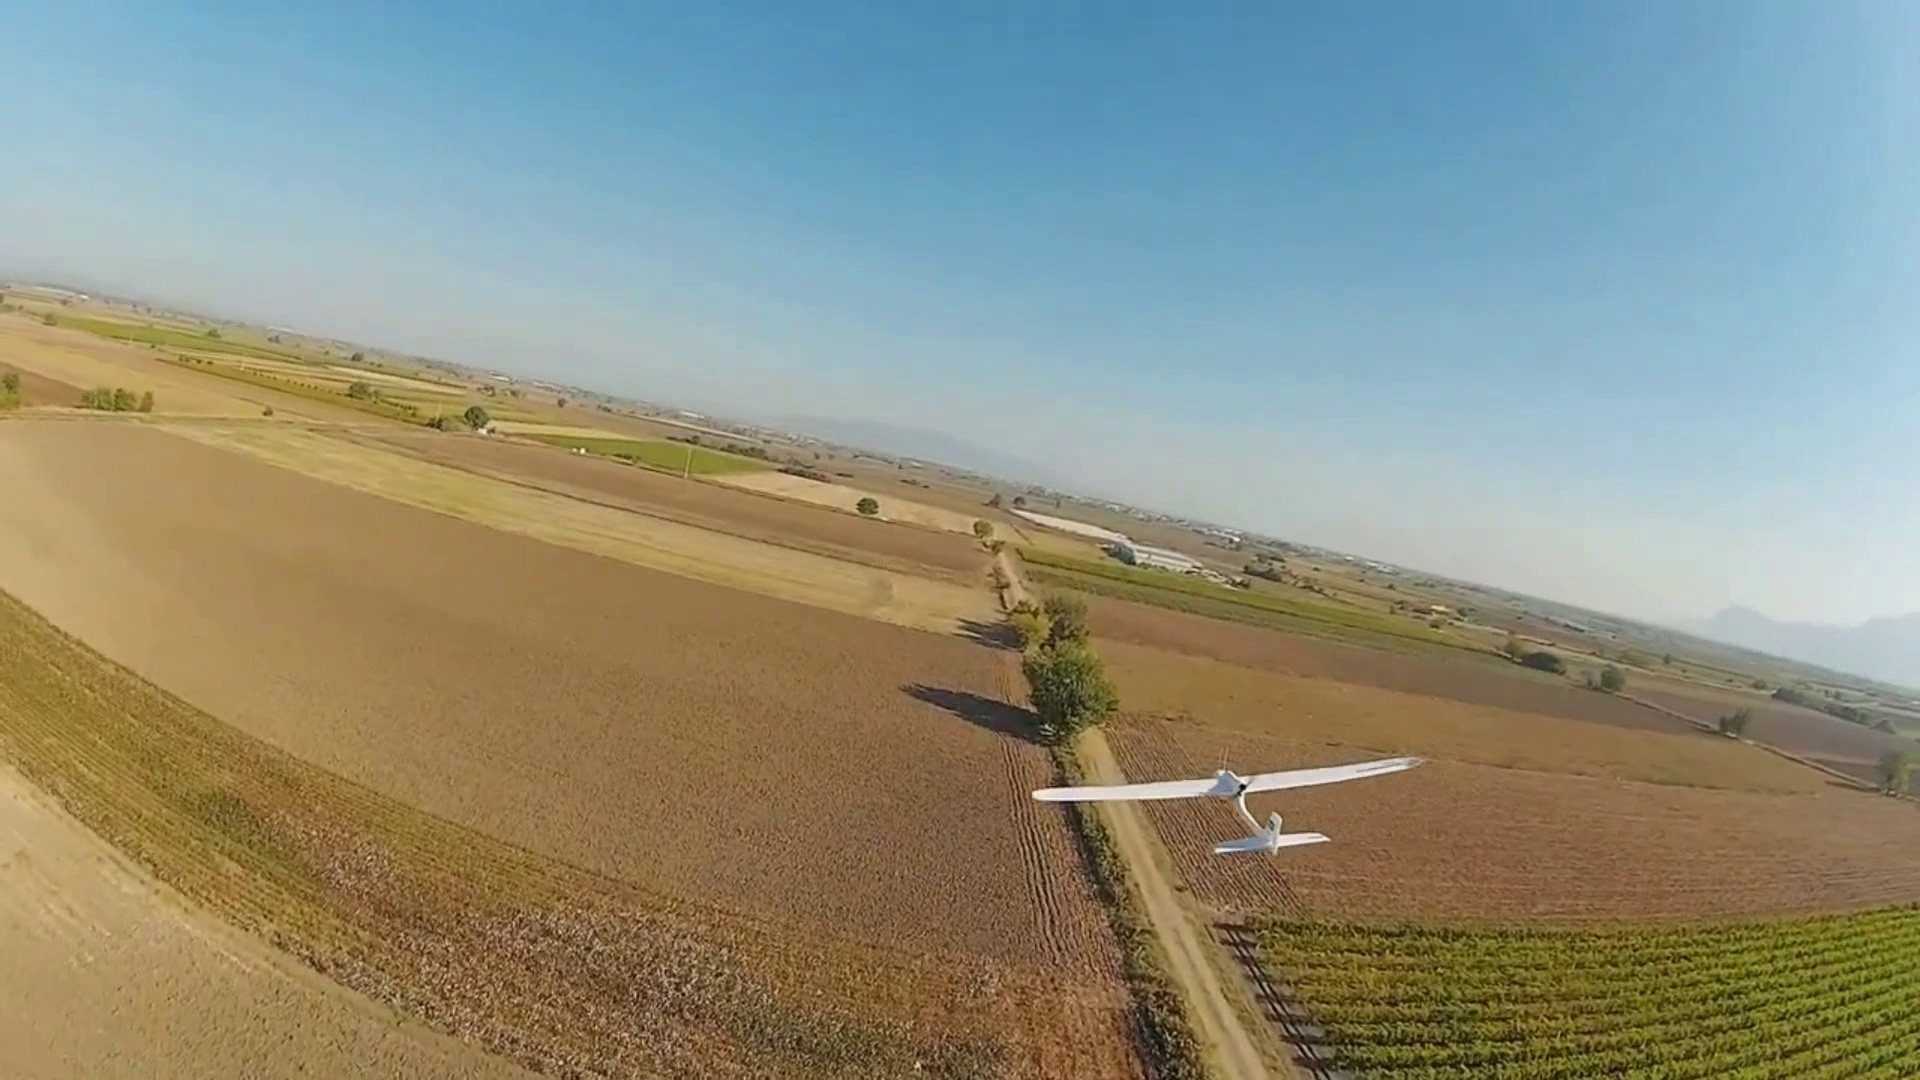airplane: (1032, 752, 1429, 864)
